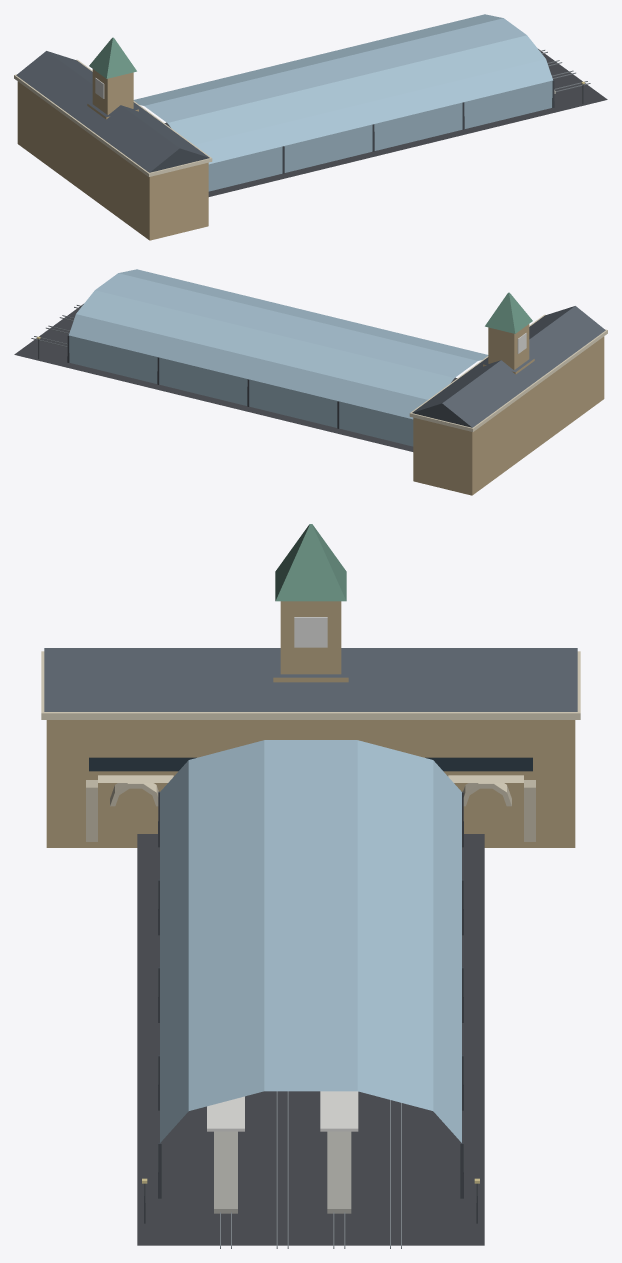
File: mobile.glb
The picture shows the model from 3 angles, top to bottom: view 1: azimuth 30°, elevation 25°; view 2: azimuth 150°, elevation 25°; view 3: azimuth 270°, elevation 25°; orthographic projection. The views are drawn at different scales.
Visible parts, largest first — view 1: lm.rail-terminus; view 2: lm.rail-terminus; view 3: lm.rail-terminus.
Part boxes in pixels (left/top/right/bottom): lm.rail-terminus: left=14, top=14, right=607, bottom=240; lm.rail-terminus: left=14, top=269, right=607, bottom=495; lm.rail-terminus: left=41, top=524, right=580, bottom=1248.
Bounding box in the file's own units: 149 × 43 × 71.4.
